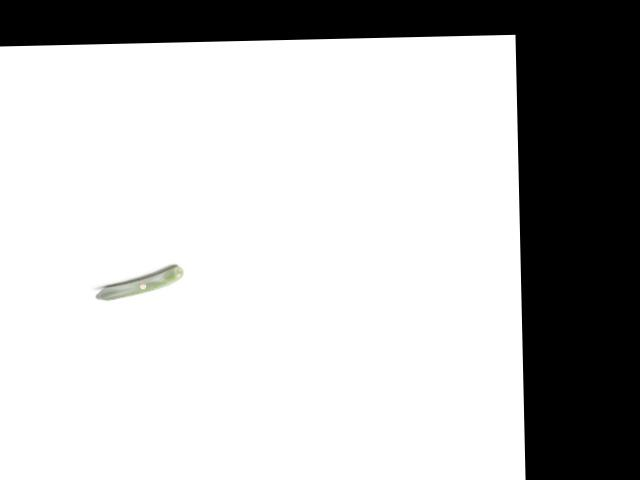cucumber: (95, 265, 184, 300)
